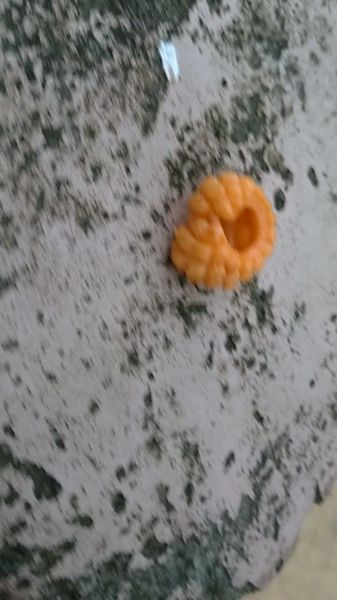eggs: (161, 166, 285, 298)
